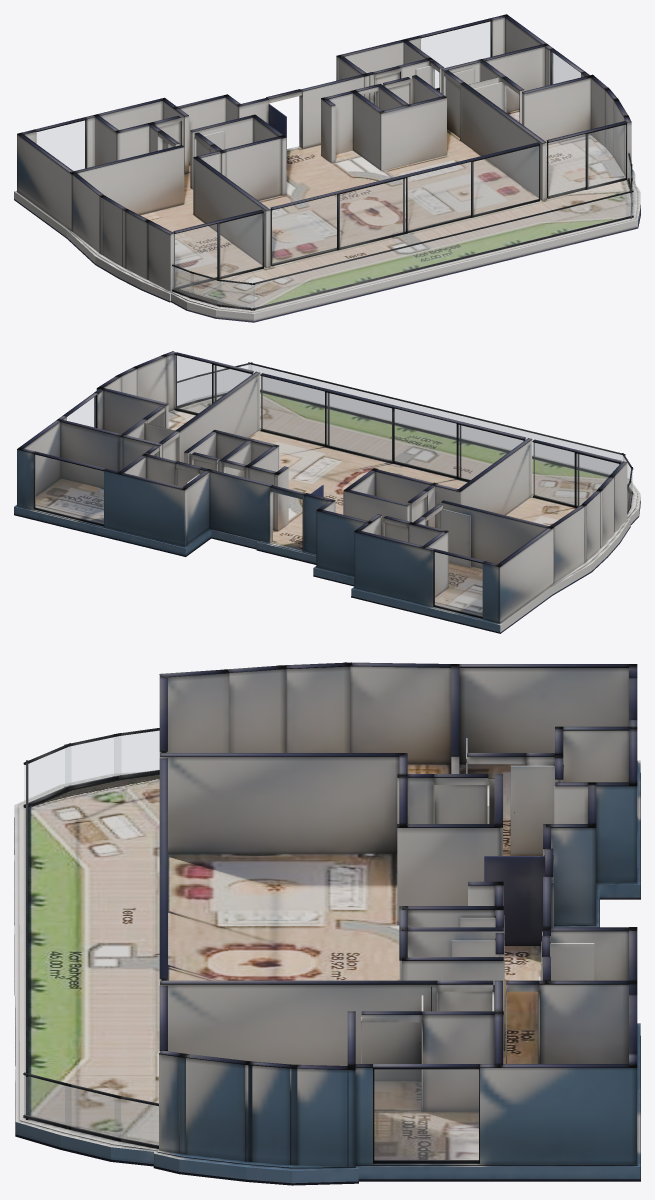
The picture shows the model from 3 angles, top to bottom: view 1: azimuth 30°, elevation 25°; view 2: azimuth 150°, elevation 25°; view 3: azimuth 270°, elevation 25°; orthographic projection. The views are drawn at different scales.
Parts seen in each view (by area): view 1: plan, glass1_m, railg3_m, glass0_m, glass2_m, glass4_m, glass3_m, railg4_m, railg5_m, glass5_m, railg6_m; view 2: plan, glass1_m, railg3_m, glass4_m, glass0_m, glass3_m, glass2_m, glass5_m, railg1_m, railg0_m; view 3: plan, glass5_m, railg1_m, railg5_m, railg2_m, railg6_m, railg0_m, railg4_m.
Part boxes in pixels (box(x1,y1,x2,y2)): plan: box(14, 14, 640, 322); glass1_m: box(271, 146, 538, 264); railg3_m: box(251, 192, 632, 308); glass0_m: box(174, 214, 262, 287); glass2_m: box(548, 125, 625, 196); glass4_m: box(421, 21, 490, 88); glass3_m: box(37, 121, 85, 170); railg4_m: box(217, 281, 254, 308); railg5_m: box(190, 273, 221, 304); glass5_m: box(552, 52, 580, 83); railg6_m: box(173, 266, 193, 297); plan: box(14, 351, 640, 633); glass1_m: box(261, 376, 522, 479); railg3_m: box(249, 364, 624, 474); glass4_m: box(35, 455, 103, 524); glass0_m: box(533, 443, 618, 506); glass3_m: box(434, 552, 482, 616); glass2_m: box(175, 355, 251, 413); glass5_m: box(67, 396, 95, 427); railg1_m: box(199, 371, 223, 399); railg0_m: box(177, 378, 195, 405); plan: box(14, 662, 640, 1185); glass5_m: box(374, 1069, 478, 1160); railg1_m: box(65, 1086, 120, 1138); railg5_m: box(65, 736, 120, 786); railg2_m: box(24, 1075, 71, 1126); railg6_m: box(114, 731, 159, 775); railg0_m: box(114, 1098, 158, 1145); railg4_m: box(24, 747, 70, 804).
Size of the model in its own units: 20.75 by 2.62 by 13.24.
2 materials, 1 textured.
